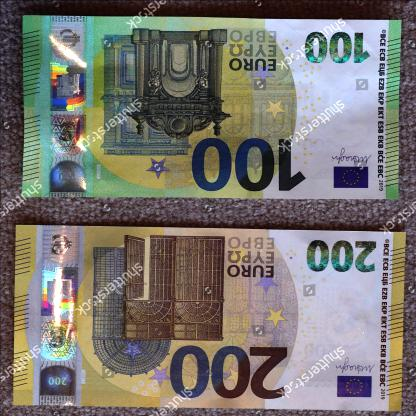euro_banknote: (15, 229, 407, 409), (23, 17, 403, 199)
